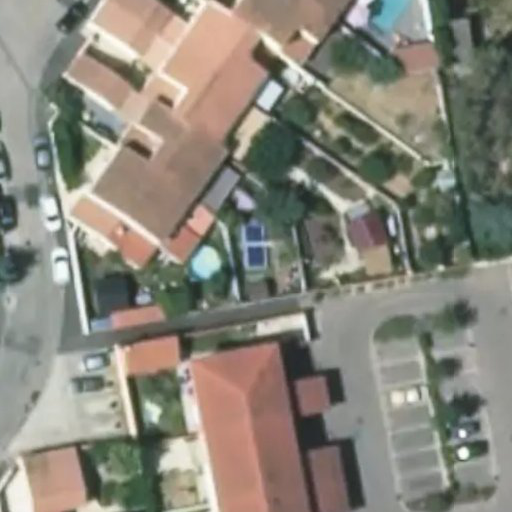pool: (240, 219, 272, 263)
